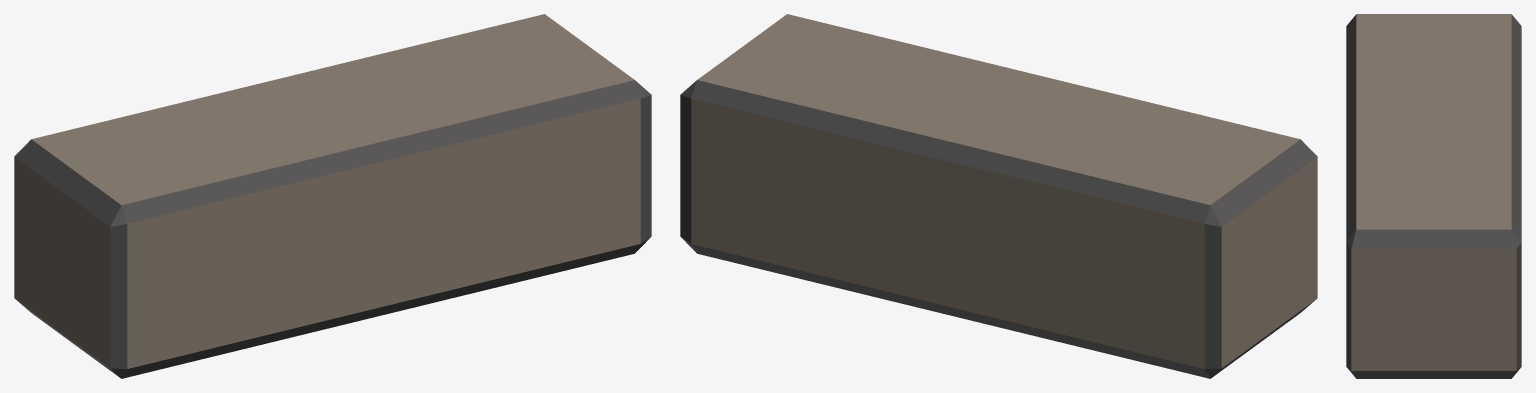
File: zhuankuai.fbx
The picture shows the model from 3 angles, left to right: view 1: azimuth 30°, elevation 25°; view 2: azimuth 150°, elevation 25°; view 3: azimuth 270°, elevation 25°; orthographic projection. The views are drawn at different scales.
Parts seen in each view (by area): view 1: pCube1; view 2: pCube1; view 3: pCube1.
Boxes of the visible parts, box(x1,y1,x2,y2) form: pCube1: box(14, 14, 651, 378); pCube1: box(680, 14, 1317, 378); pCube1: box(1346, 14, 1521, 378).
Bounding box in the file's own units: 84.34 × 25.85 × 27.52.
